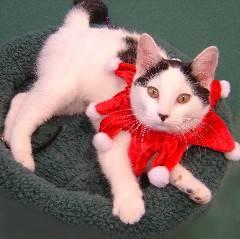cat: (3, 0, 217, 223)
